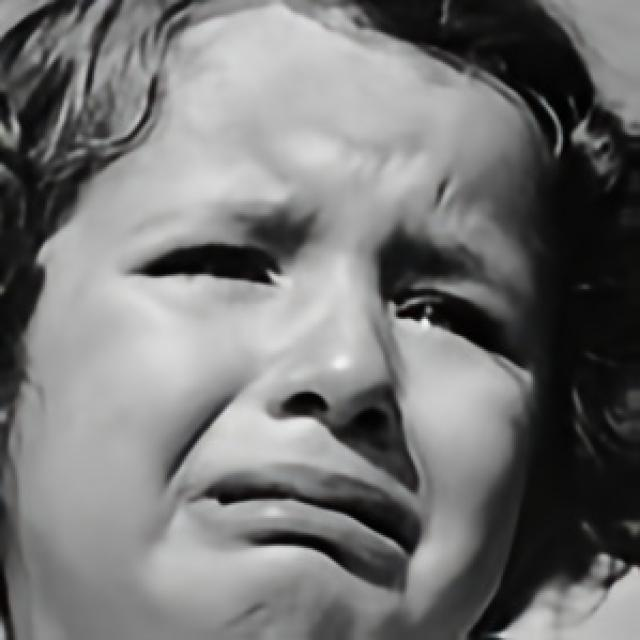sad: (5, 0, 562, 640)
